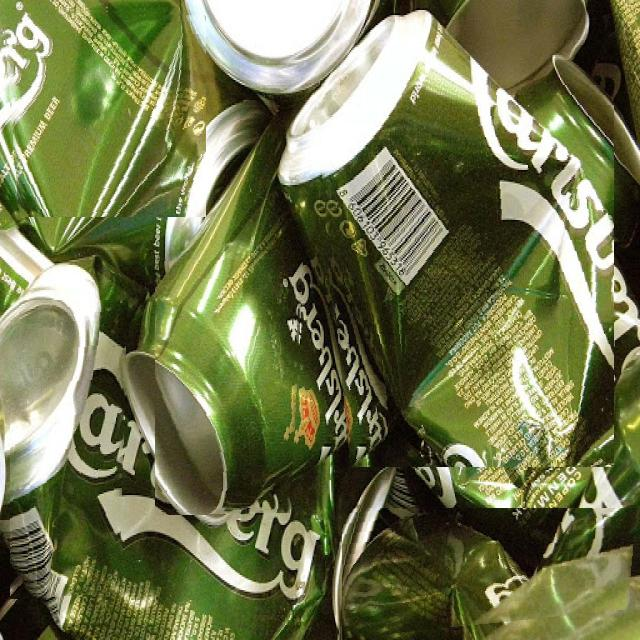Cans: (313, 79, 614, 467), (2, 6, 206, 218), (155, 251, 304, 516), (342, 508, 640, 640), (10, 300, 128, 600)
